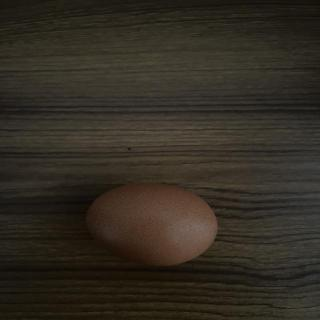Telur: (81, 180, 225, 272)
